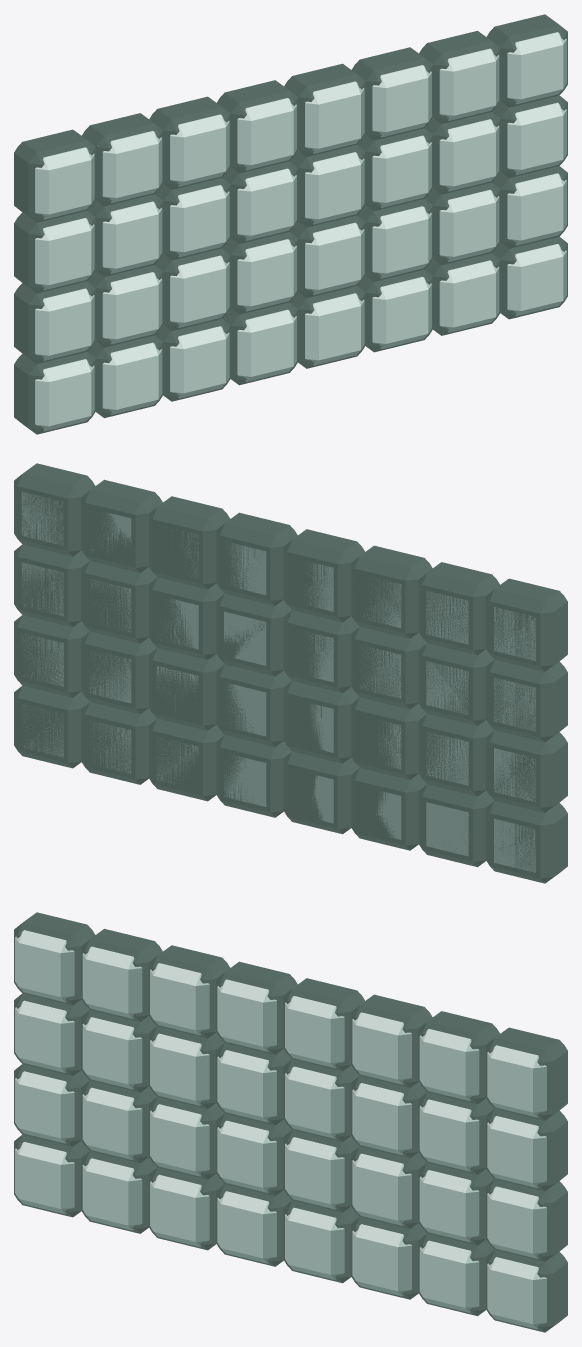
File: Terrain_Block8x4.gltf
3 renders of one model, top to bottom at view 1: azimuth 30°, elevation 25°; view 2: azimuth 150°, elevation 25°; view 3: azimuth 330°, elevation 25°, orthographic.
Parts seen in each view (by area): view 1: Terrain_Block8x4_baked; view 2: Terrain_Block8x4_baked; view 3: Terrain_Block8x4_baked.
Boxes of the visible parts, left/top/right/bottom form: Terrain_Block8x4_baked: left=14, top=14, right=567, bottom=434; Terrain_Block8x4_baked: left=14, top=463, right=567, bottom=883; Terrain_Block8x4_baked: left=14, top=912, right=567, bottom=1332.
Bounding box in the file's own units: 8 × 4 × 0.7.
